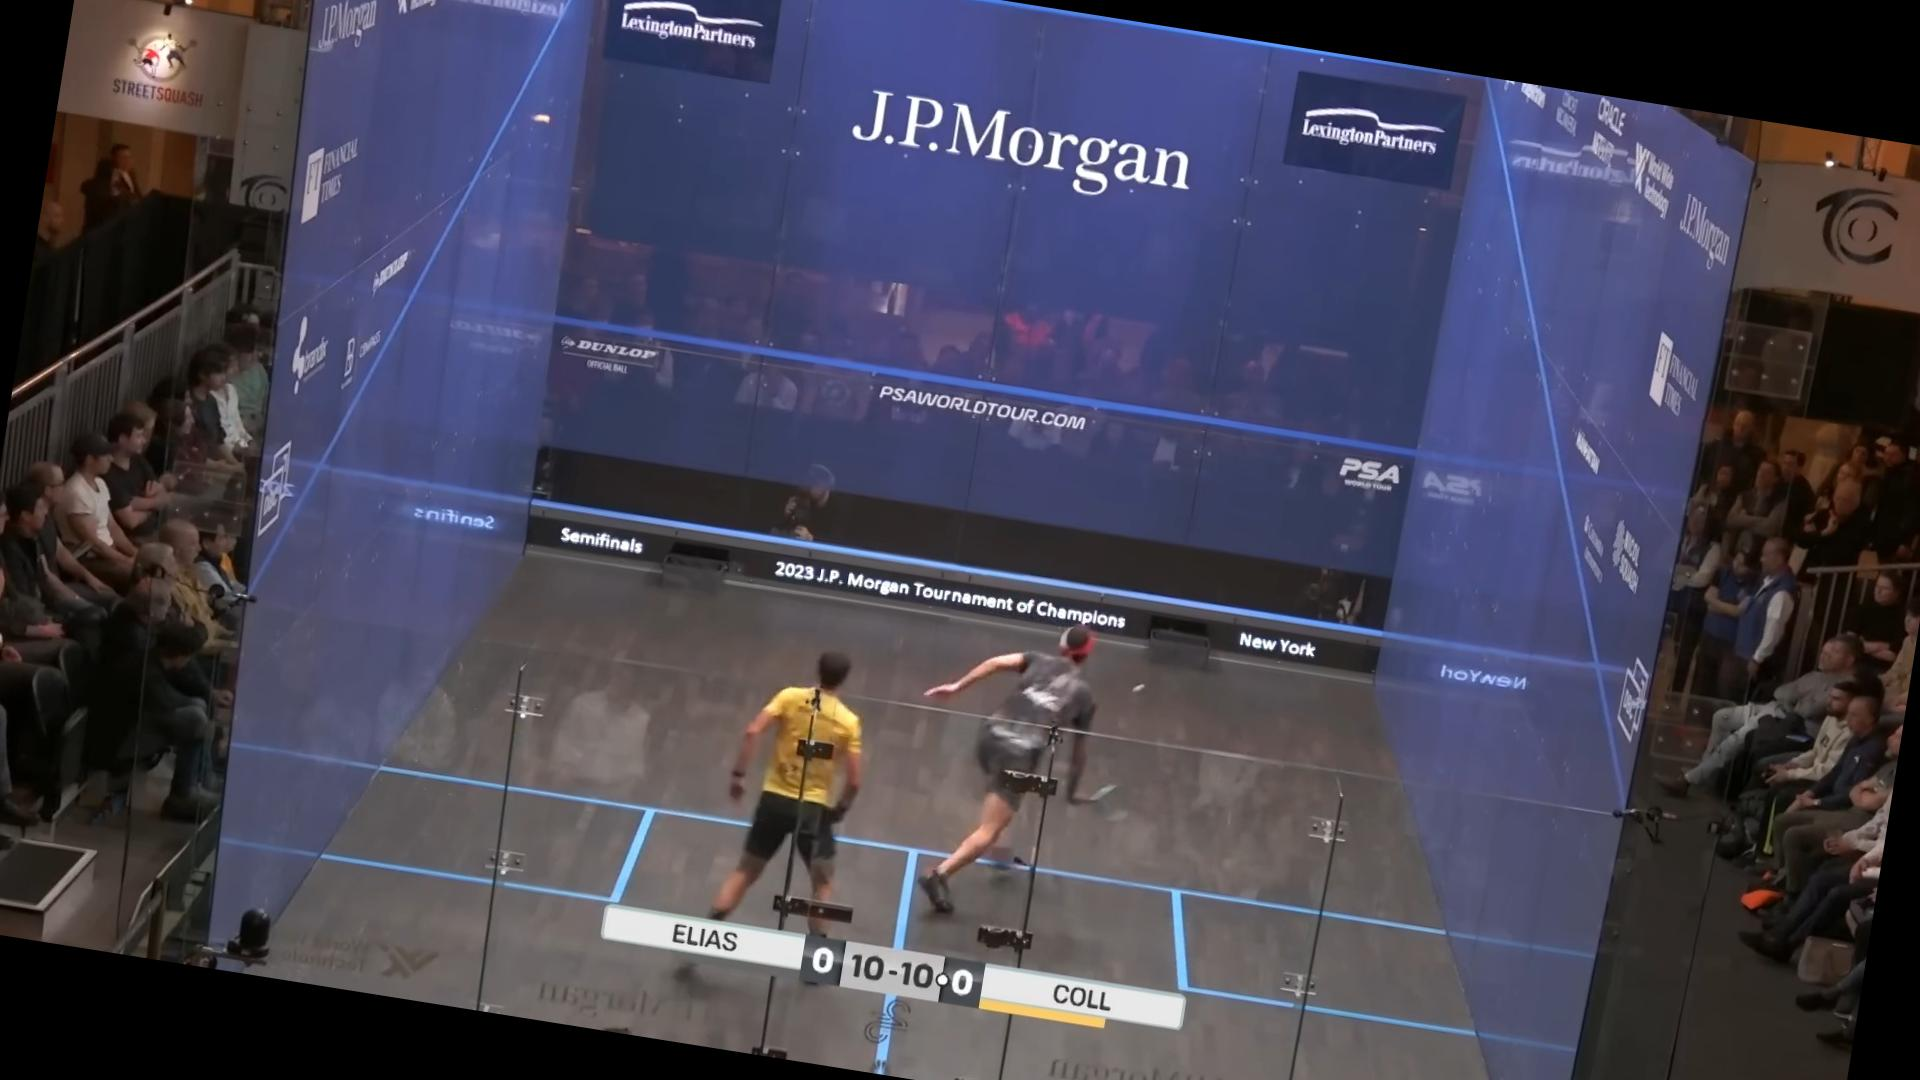Racket: (1072, 777, 1154, 839)
